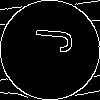J: (25, 25, 73, 54)
